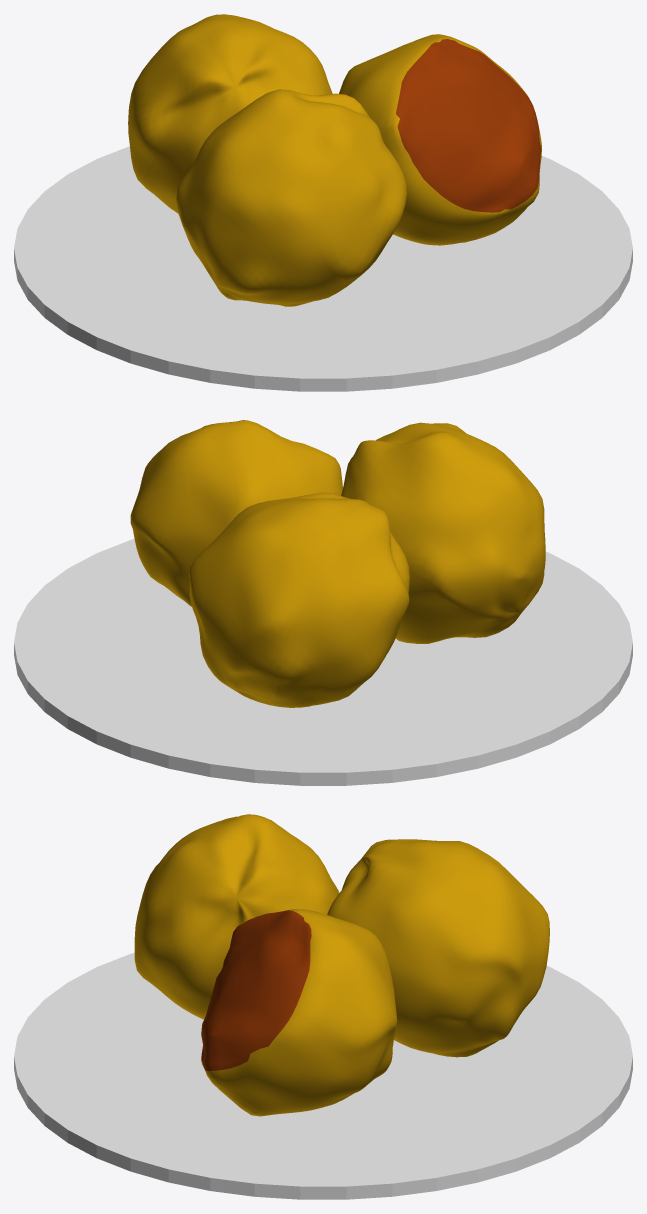
Rendered from PastelCarne.glb.
3 renders of one model, top to bottom at view 1: azimuth 30°, elevation 25°; view 2: azimuth 150°, elevation 25°; view 3: azimuth 270°, elevation 25°, orthographic.
Visible parts, largest first — view 1: Circle, Sphere, Sphere.001, Sphere.002; view 2: Circle, Sphere.002, Sphere, Sphere.001; view 3: Circle, Sphere.001, Sphere.002, Sphere.
Boxes of the visible parts, x1,y1,x2,y2 form: Circle: (14, 146, 632, 391); Sphere: (176, 89, 407, 306); Sphere.001: (339, 34, 541, 245); Sphere.002: (128, 14, 332, 213); Circle: (14, 539, 632, 785); Sphere.002: (189, 492, 409, 707); Sphere: (341, 422, 545, 643); Sphere.001: (130, 420, 342, 606); Circle: (14, 952, 632, 1199); Sphere.001: (201, 909, 397, 1116); Sphere.002: (327, 839, 549, 1057); Sphere: (134, 814, 339, 1019).
Bounding box in the file's own units: 12.76 × 4.89 × 12.8.
